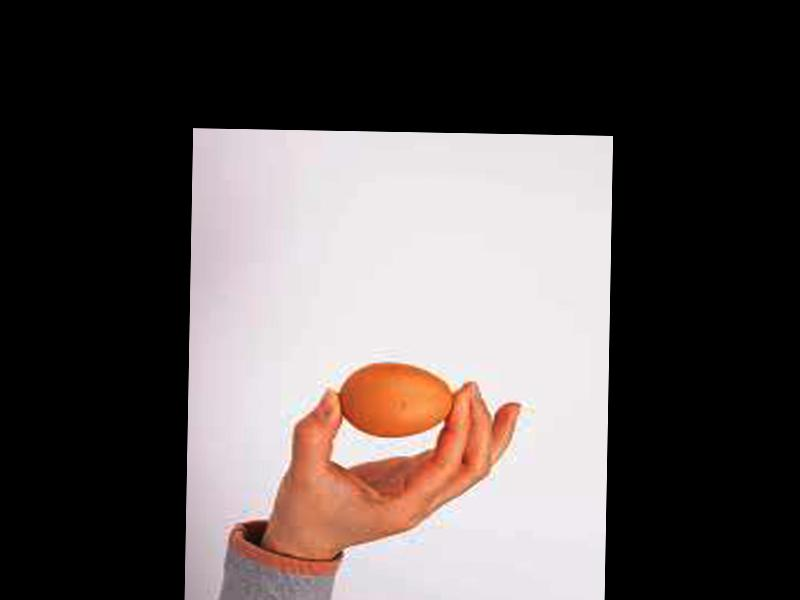Eggs: (341, 362, 456, 436)
